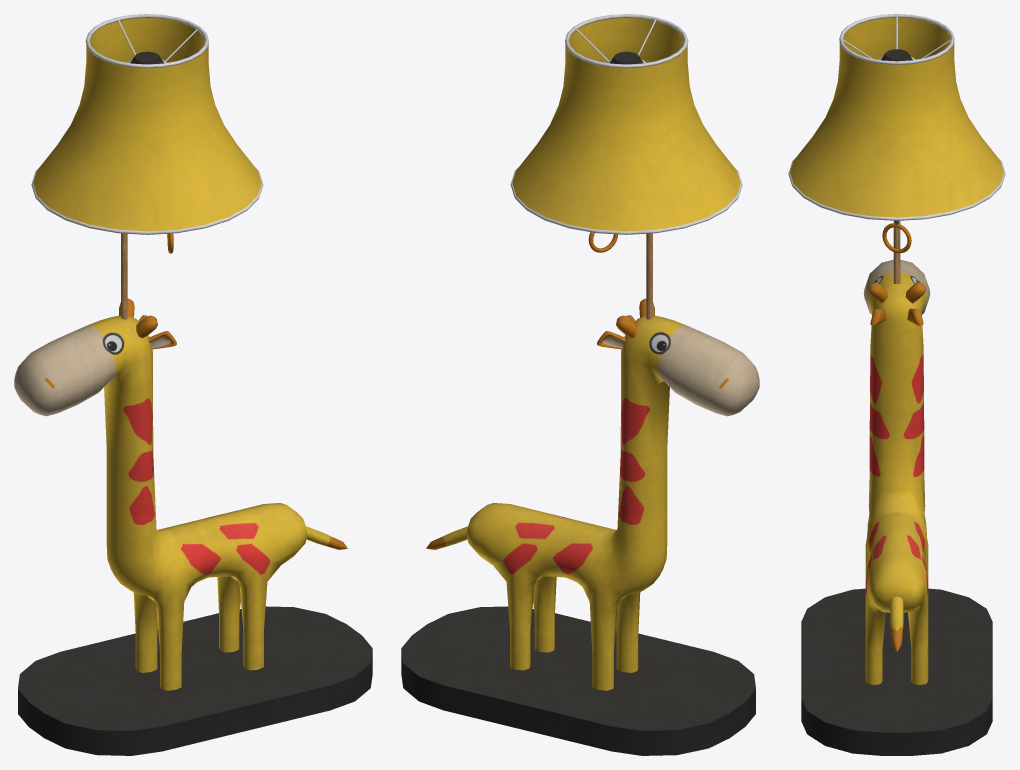
The model's file is SM_Torchere_1 (1).fbx.
3 views of the same model, side by side, from view 1: azimuth 30°, elevation 25°; view 2: azimuth 150°, elevation 25°; view 3: azimuth 270°, elevation 25° (orthographic). The views are drawn at different scales.
Parts seen in each view (by area): view 1: SM_Torchere_1__1_; view 2: SM_Torchere_1__1_; view 3: SM_Torchere_1__1_.
Part boxes in pixels (left/top/right/bottom): SM_Torchere_1__1_: left=14, top=14, right=372, bottom=755; SM_Torchere_1__1_: left=401, top=14, right=759, bottom=755; SM_Torchere_1__1_: left=788, top=14, right=1005, bottom=755.
Bounding box in the file's own units: 55.63 × 107 × 33.71.
2 materials, 2 textured.
